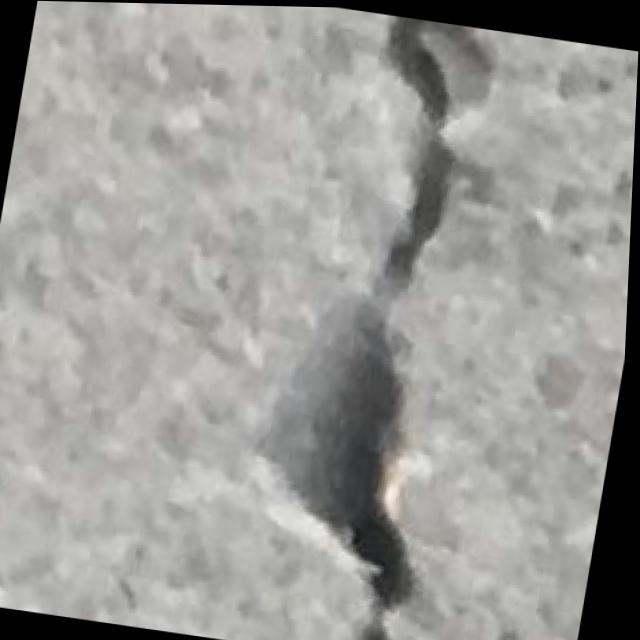Crack: (210, 4, 545, 640)
